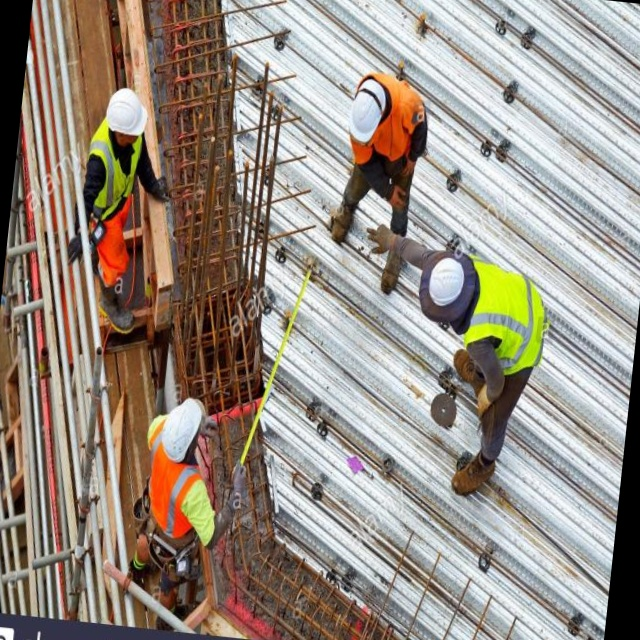Con_Casco: (346, 76, 389, 149), (161, 396, 204, 465), (103, 86, 150, 148)
Con_Chaleco: (460, 251, 553, 381)
